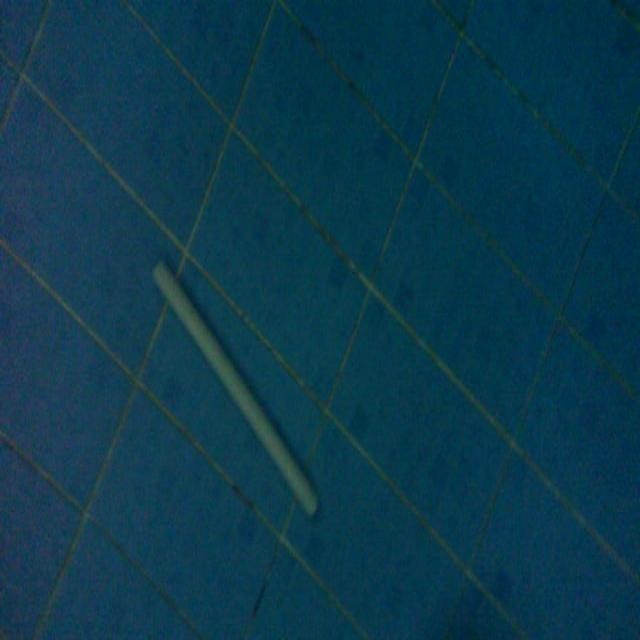Cube: (150, 253, 321, 519)
